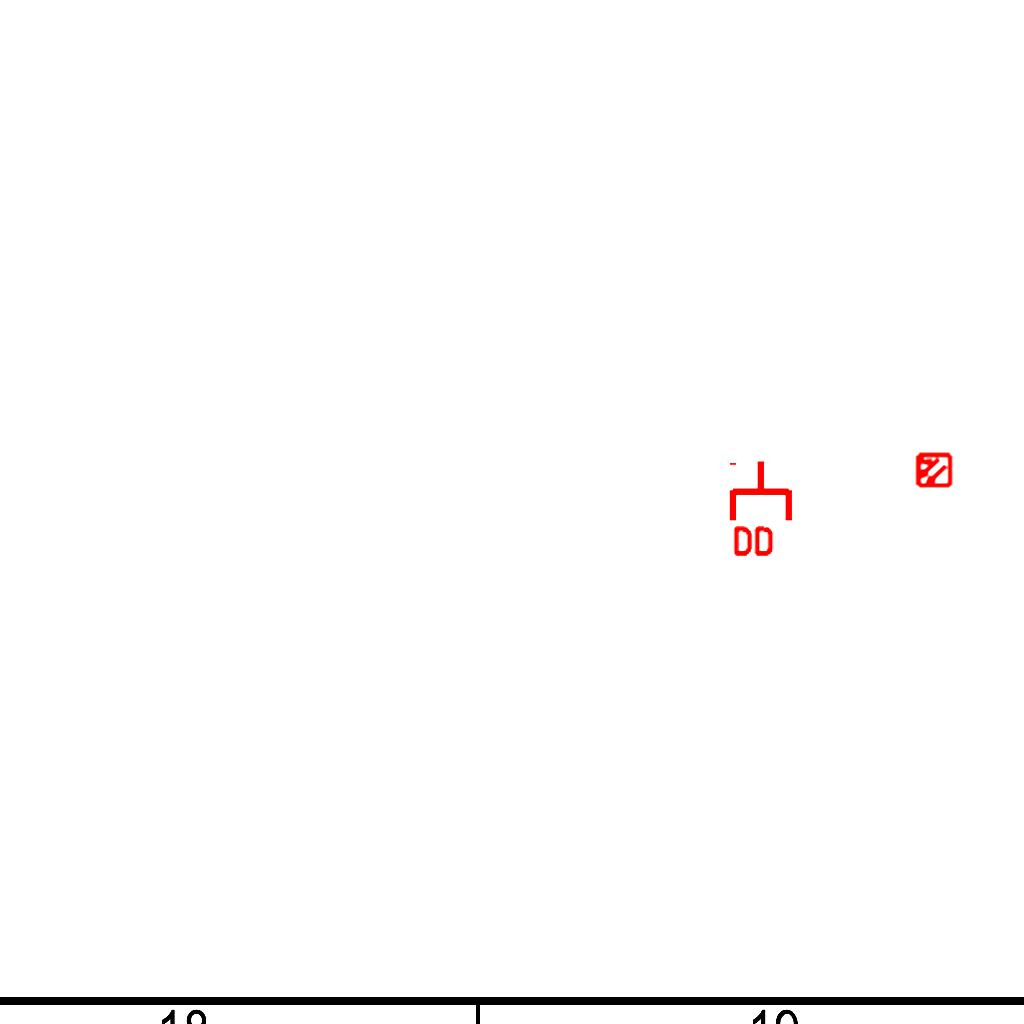Datenanschluss_zweifach: (728, 458, 797, 561)
OT_Multisensormelder_(Kombination_RMO_WMD): (905, 442, 961, 498)
